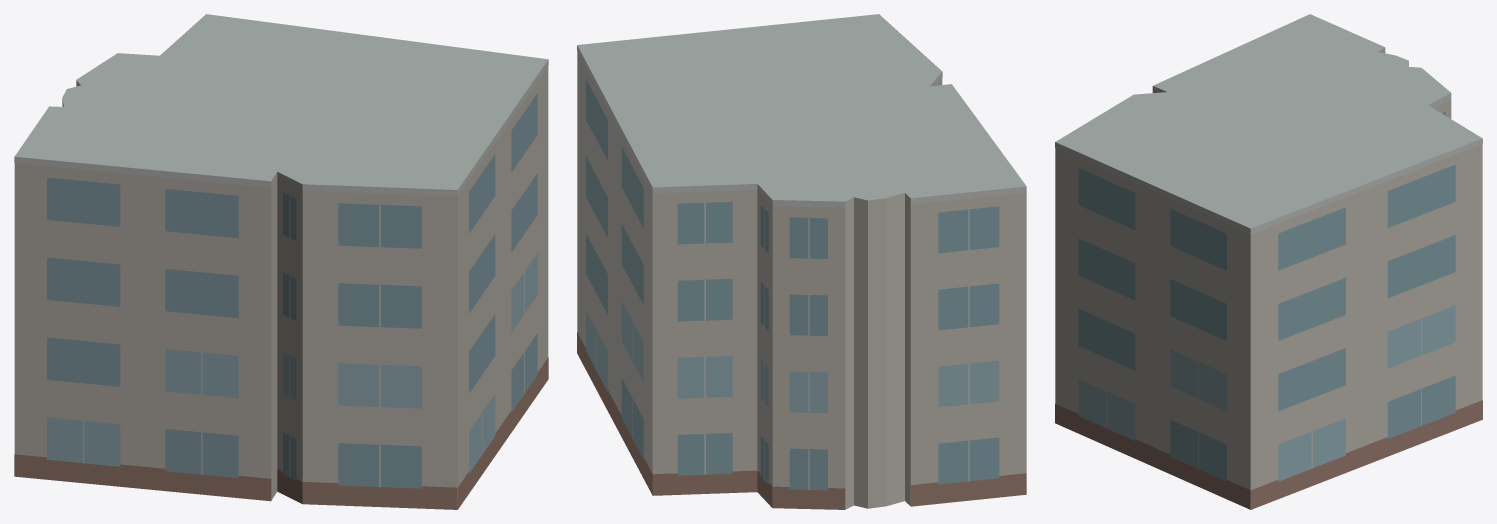
The model's file is survey-upis-32654309.glb.
3 views of the same model, side by side, from view 1: azimuth 30°, elevation 25°; view 2: azimuth 150°, elevation 25°; view 3: azimuth 270°, elevation 25° (orthographic). The views are drawn at different scales.
Visible parts, largest first — view 1: survey-upis-32654309.tmp; view 2: survey-upis-32654309.tmp; view 3: survey-upis-32654309.tmp.
Part boxes in pixels (left/top/right/bottom): survey-upis-32654309.tmp: left=14, top=14, right=548, bottom=509; survey-upis-32654309.tmp: left=577, top=14, right=1026, bottom=509; survey-upis-32654309.tmp: left=1055, top=14, right=1482, bottom=509.
Bounding box in the file's own units: 19.98 × 12.2 × 16.82.
